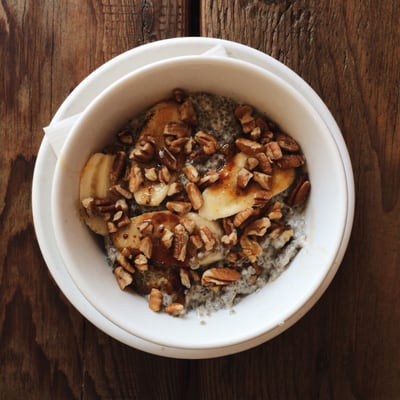sushi: (23, 37, 354, 374)
